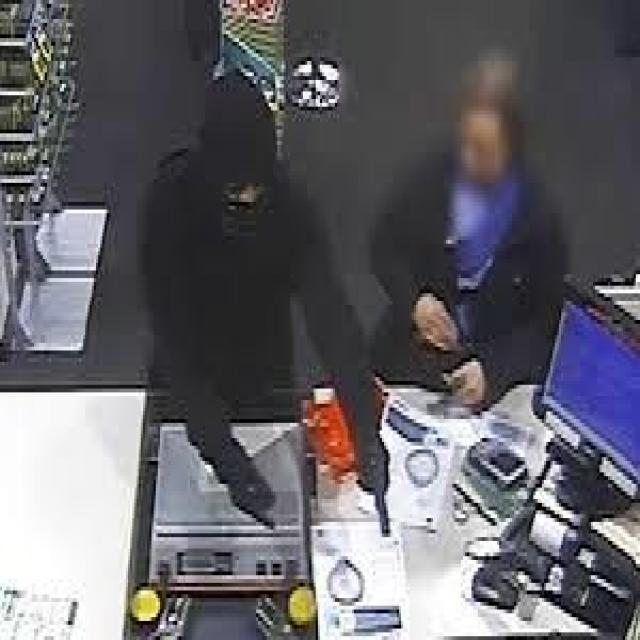weapon: (352, 430, 403, 545)
